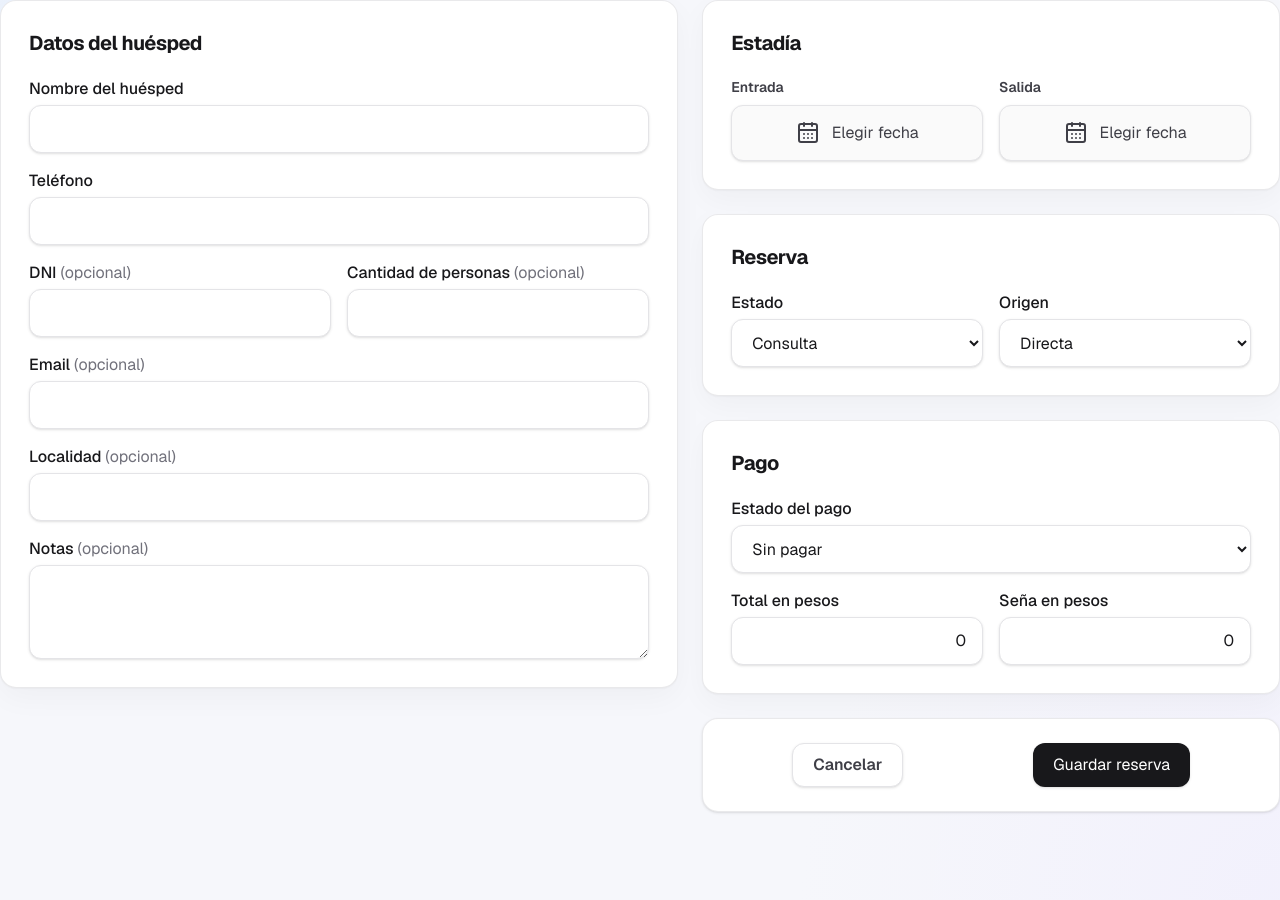
Scenario: ReservationForm › requires guest name, phone and stay dates in Spanish
Click the button "Guardar reserva" at point(1112, 765), box [1033,743,1190,787]
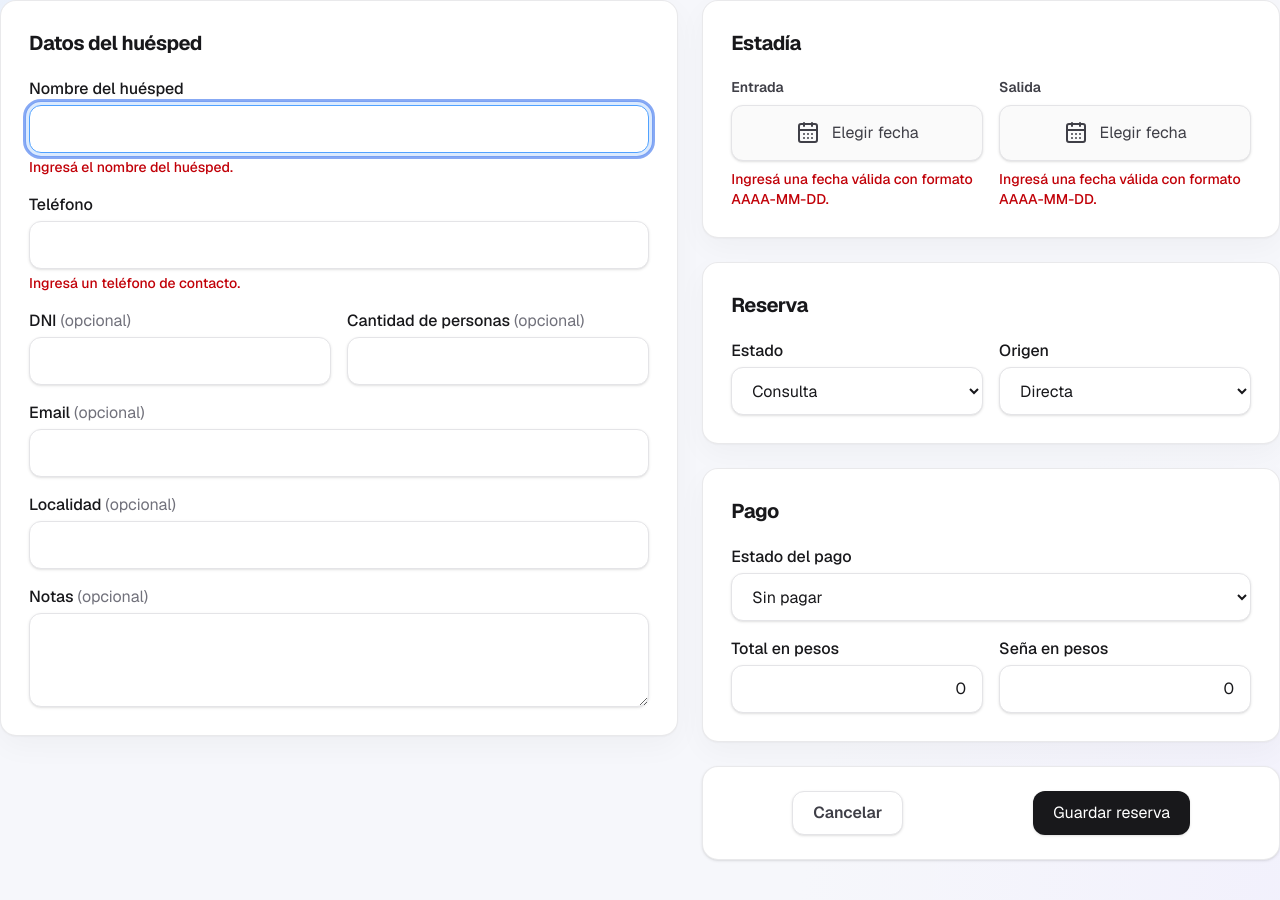
Check: the text "Ingresá el nombre del huésped." is shown, box [29,158,233,176]
Check: the text "Ingresá un teléfono de contacto." is shown, box [29,274,240,292]
